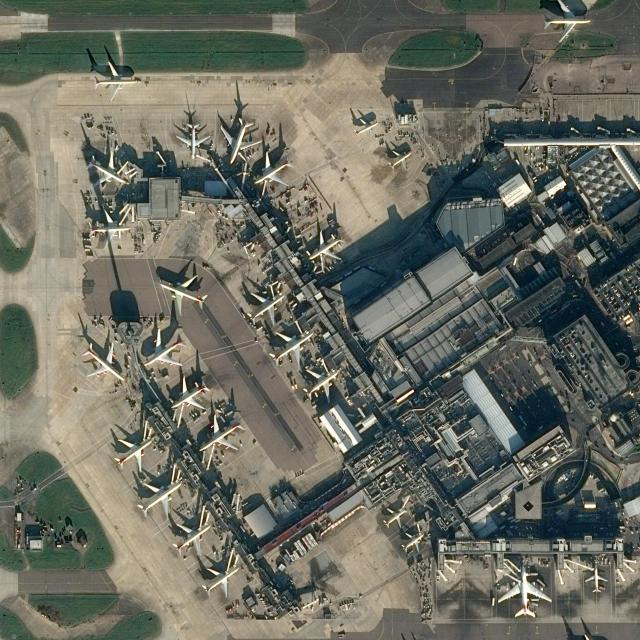1: (581, 633, 592, 640)
aircraft: (496, 565, 552, 618), (158, 274, 208, 316), (219, 116, 262, 164), (542, 0, 590, 42), (92, 60, 139, 101), (80, 341, 126, 382), (136, 479, 183, 519), (197, 414, 245, 452), (87, 208, 131, 248), (142, 328, 188, 366), (268, 330, 314, 368), (85, 150, 129, 188), (253, 150, 294, 187), (112, 436, 154, 472), (245, 290, 286, 326), (170, 374, 210, 410), (302, 367, 341, 403), (172, 522, 212, 556), (200, 565, 240, 597), (308, 229, 347, 261), (175, 122, 209, 158), (584, 566, 608, 594), (386, 148, 412, 170), (382, 506, 406, 529), (400, 531, 425, 553), (353, 117, 379, 138)
